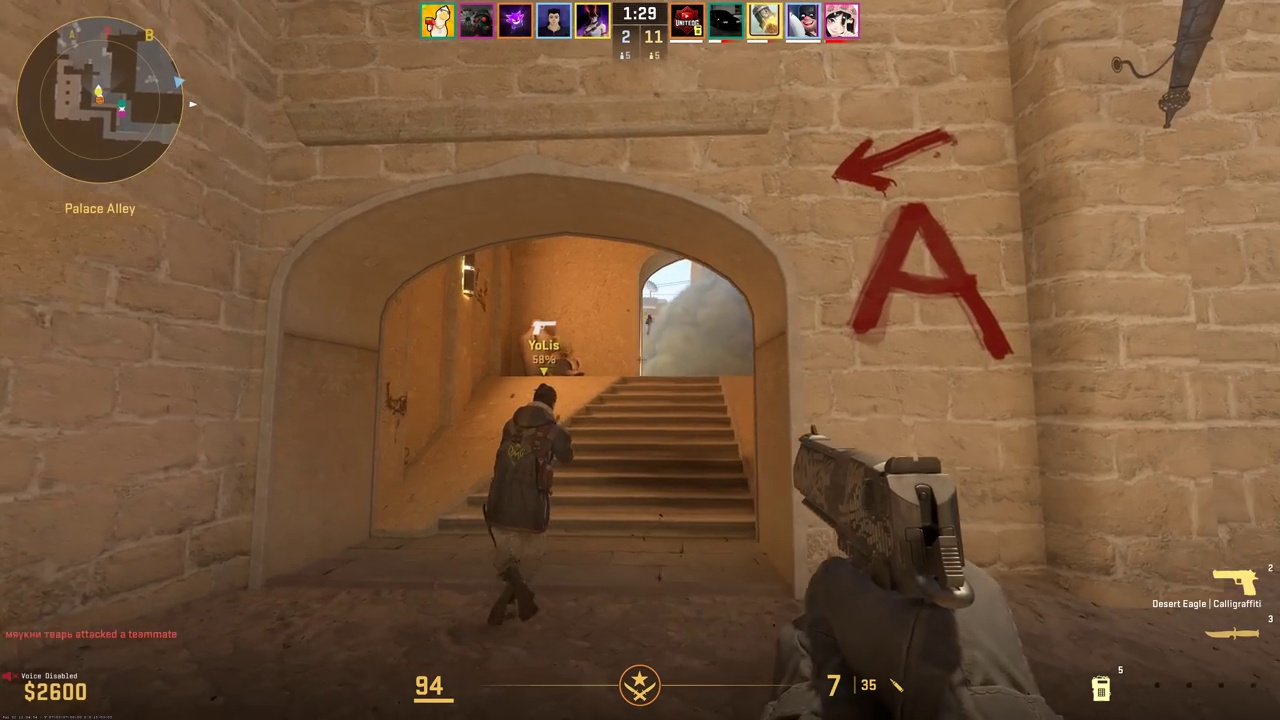Terrorist: (484, 384, 567, 629)
